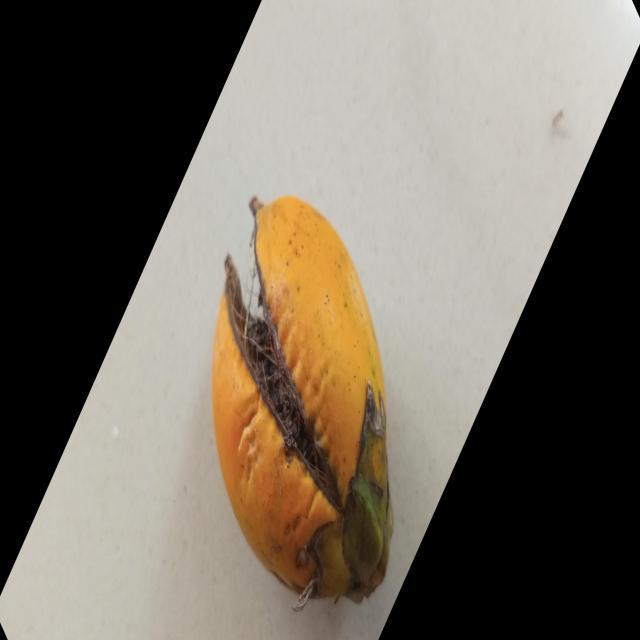damaged: (212, 197, 393, 601)
